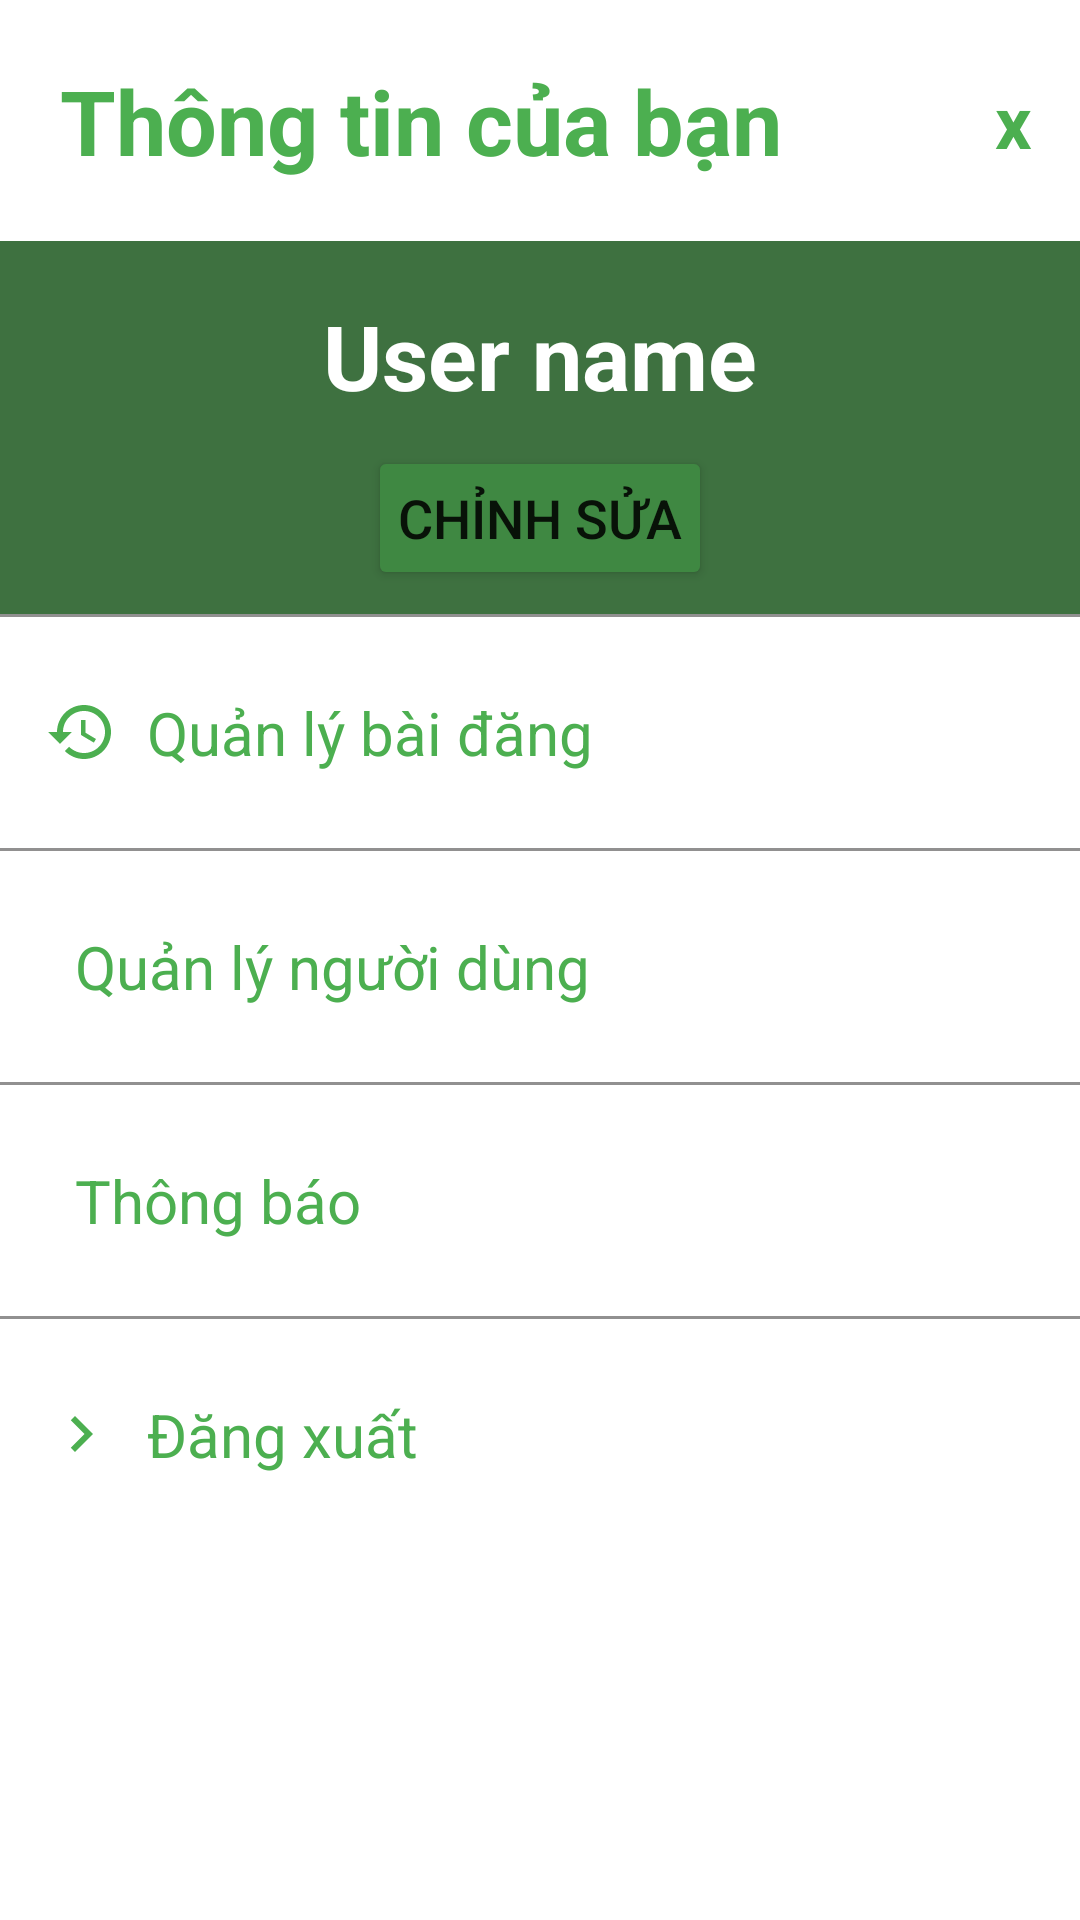

Icons on this 1080×1920 Android screen, each with its box as (x1=x1, y1=y1, x2=x2, y2=y2):
history: (x1=48, y1=705, x2=111, y2=759)
